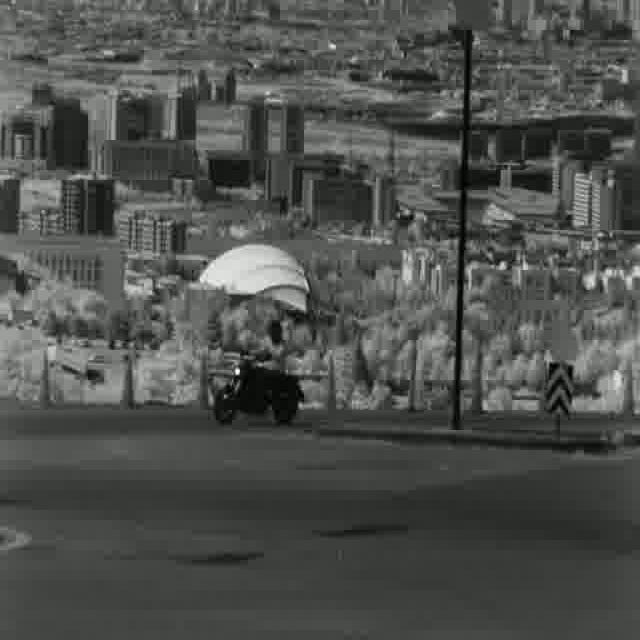Motorcycle: (210, 316, 308, 430)
